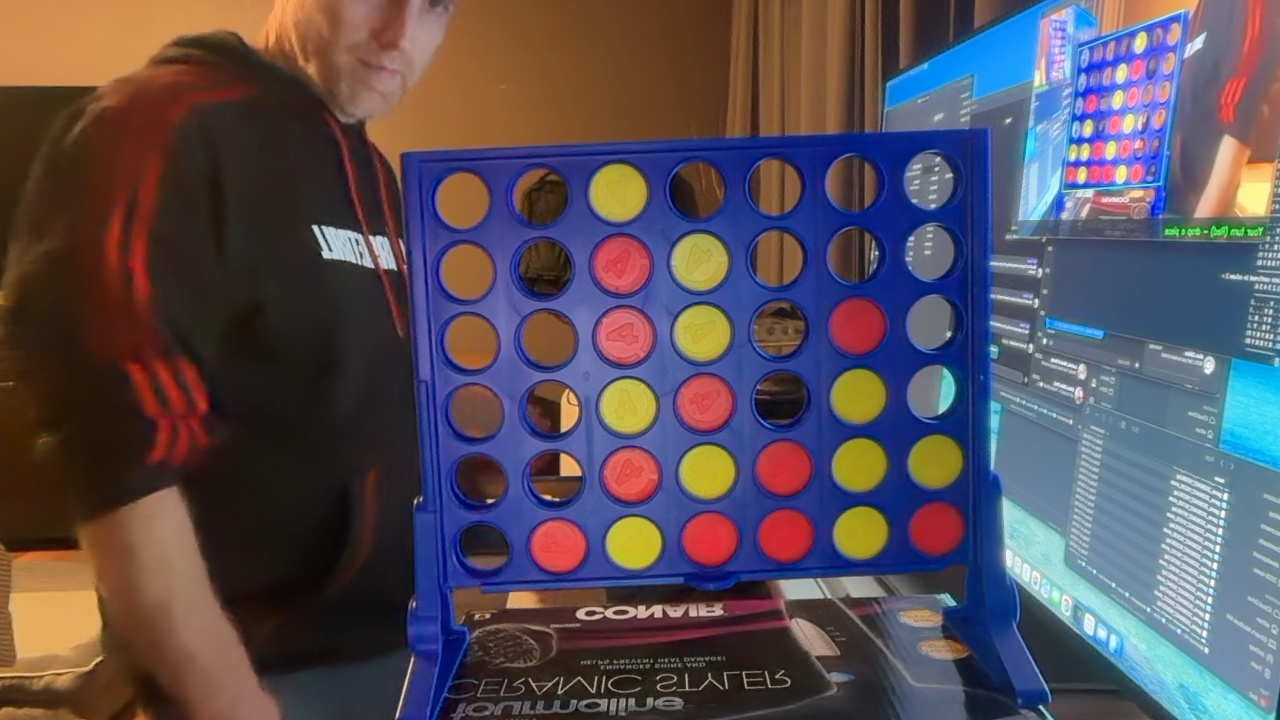red piece: (591, 235, 652, 296), (595, 307, 655, 366), (828, 297, 887, 356), (675, 374, 735, 432), (601, 447, 660, 504), (755, 440, 813, 497), (681, 512, 739, 567), (529, 519, 587, 574), (757, 509, 814, 564), (909, 502, 965, 556)
yellow piece: (589, 163, 648, 223), (670, 232, 729, 291), (673, 304, 732, 362), (598, 378, 657, 436), (678, 444, 737, 501), (829, 368, 886, 424), (605, 516, 663, 571), (908, 434, 964, 489), (832, 506, 889, 560), (831, 438, 887, 492)
